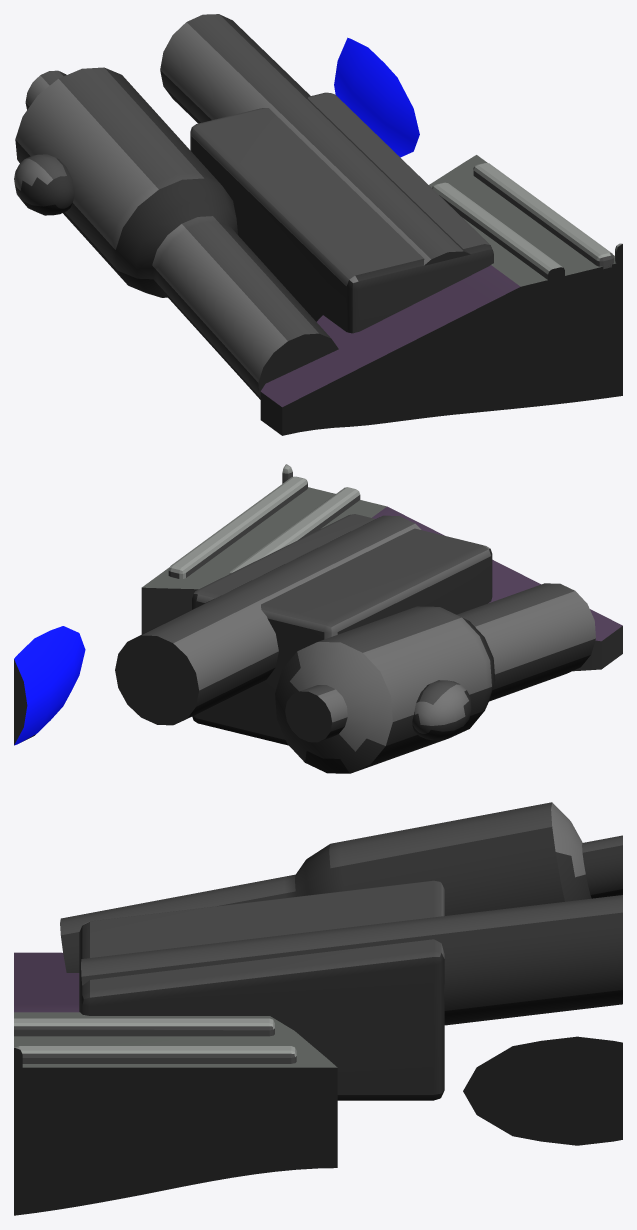
The model's file is camanis_boss_77.glb.
3 renders of one model, top to bottom at view 1: azimuth 30°, elevation 25°; view 2: azimuth 150°, elevation 25°; view 3: azimuth 270°, elevation 25°, orthographic. The views are drawn at different scales.
Visible parts, largest first — view 1: camanis_boss_77; view 2: camanis_boss_77; view 3: camanis_boss_77.
Part boxes in pixels (x1,y1,x2,y2): camanis_boss_77: (14,14,622,435); camanis_boss_77: (14,464,622,773); camanis_boss_77: (14,802,622,1215).
Size of the model in its own units: 23 by 12.46 by 28.
